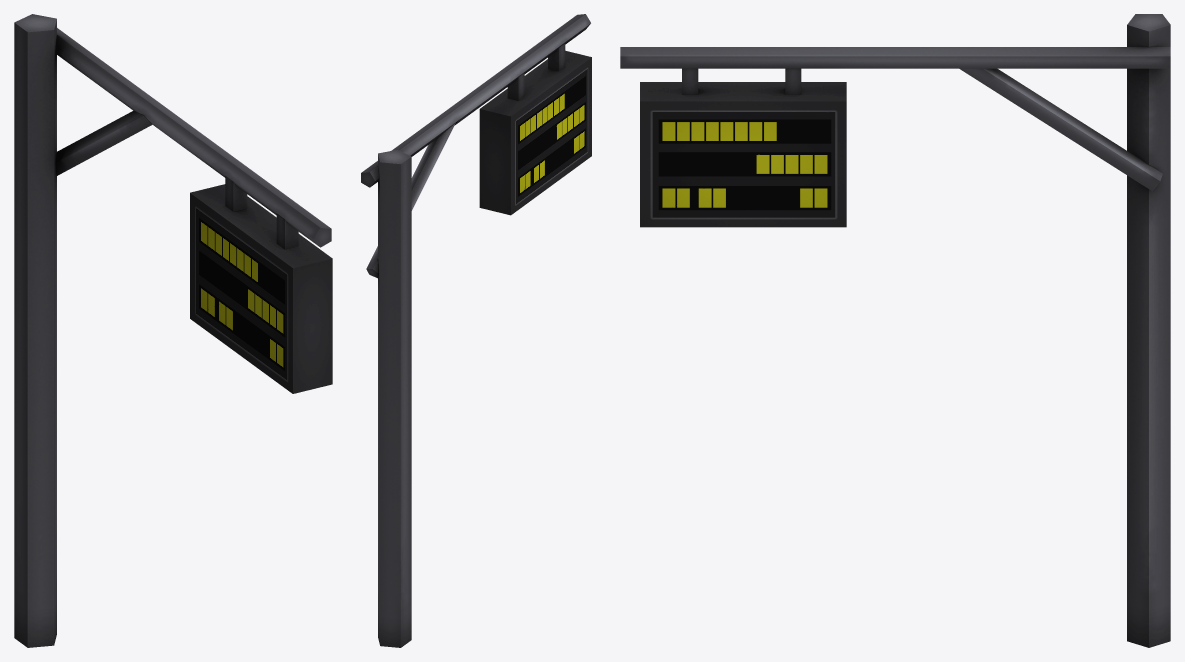
File: Perron_ArrivalTime.FBX
3 views of the same model, side by side, from view 1: azimuth 30°, elevation 25°; view 2: azimuth 150°, elevation 25°; view 3: azimuth 270°, elevation 25° (orthographic). The views are drawn at different scales.
Parts seen in each view (by area): view 1: PerronUrenDubbel; view 2: PerronUrenDubbel; view 3: PerronUrenDubbel.
Part boxes in pixels (bbox=[...]): PerronUrenDubbel: bbox=[14, 14, 332, 647]; PerronUrenDubbel: bbox=[361, 14, 591, 647]; PerronUrenDubbel: bbox=[620, 14, 1170, 647].
Bounding box in the file's own units: 28.93 × 297 × 240.
Materials: 1 (1 with a texture image).
